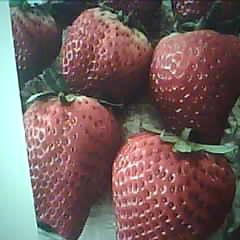straw-ripe: (22, 94, 117, 240), (114, 129, 236, 240), (149, 30, 240, 142), (60, 7, 150, 97)
